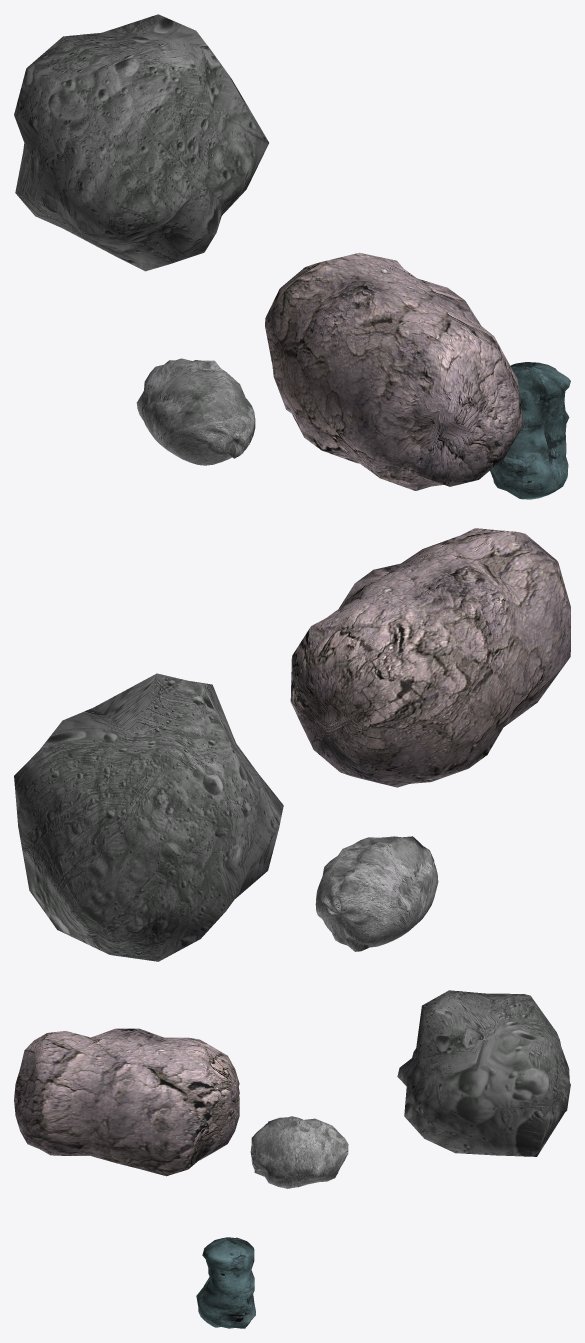
The model's file is Asteroids.DAE.
3 renders of one model, top to bottom at view 1: azimuth 30°, elevation 25°; view 2: azimuth 150°, elevation 25°; view 3: azimuth 270°, elevation 25°, orthographic. The views are drawn at different scales.
Visible parts, largest first — view 1: violeta, gris_grande, gris, azul; view 2: violeta, gris_grande, gris; view 3: gris_grande, violeta, gris, azul.
Part boxes in pixels (x1,y1,x2,y2): violeta: (14,14,268,271); gris_grande: (265,252,523,490); gris: (136,358,255,465); azul: (490,362,570,499); violeta: (14,673,283,961); gris_grande: (290,528,570,787); gris: (315,836,438,951); gris_grande: (14,1028,239,1176); violeta: (397,990,570,1156); gris: (250,1116,348,1188); azul: (196,1237,255,1328).
Bounding box in the file's own units: 7.67 × 14.74 × 7.64.
4 materials, 4 textured.
